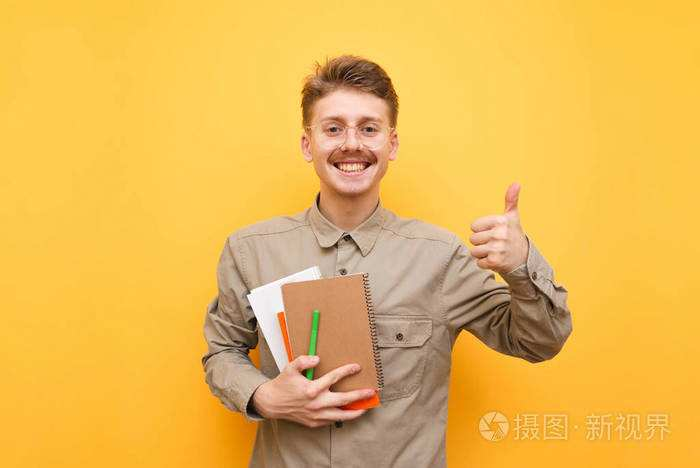no-phone: (256, 262, 382, 432), (468, 182, 527, 274)
